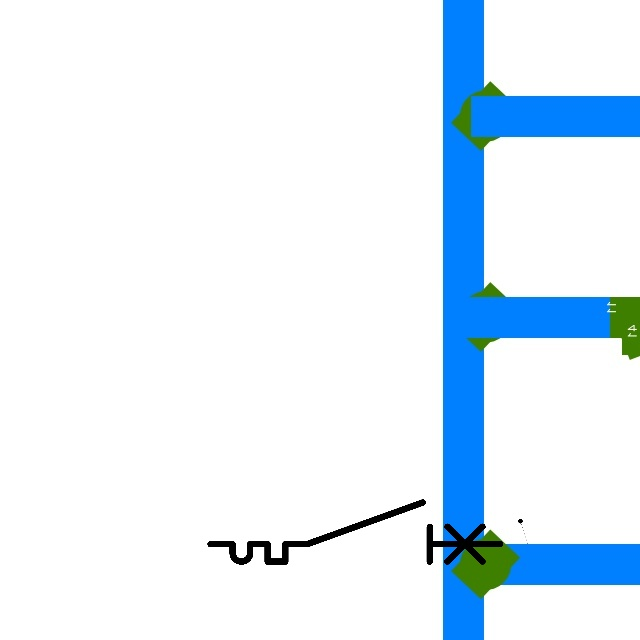interruptor_termomagnetico: (203, 495, 508, 569)
